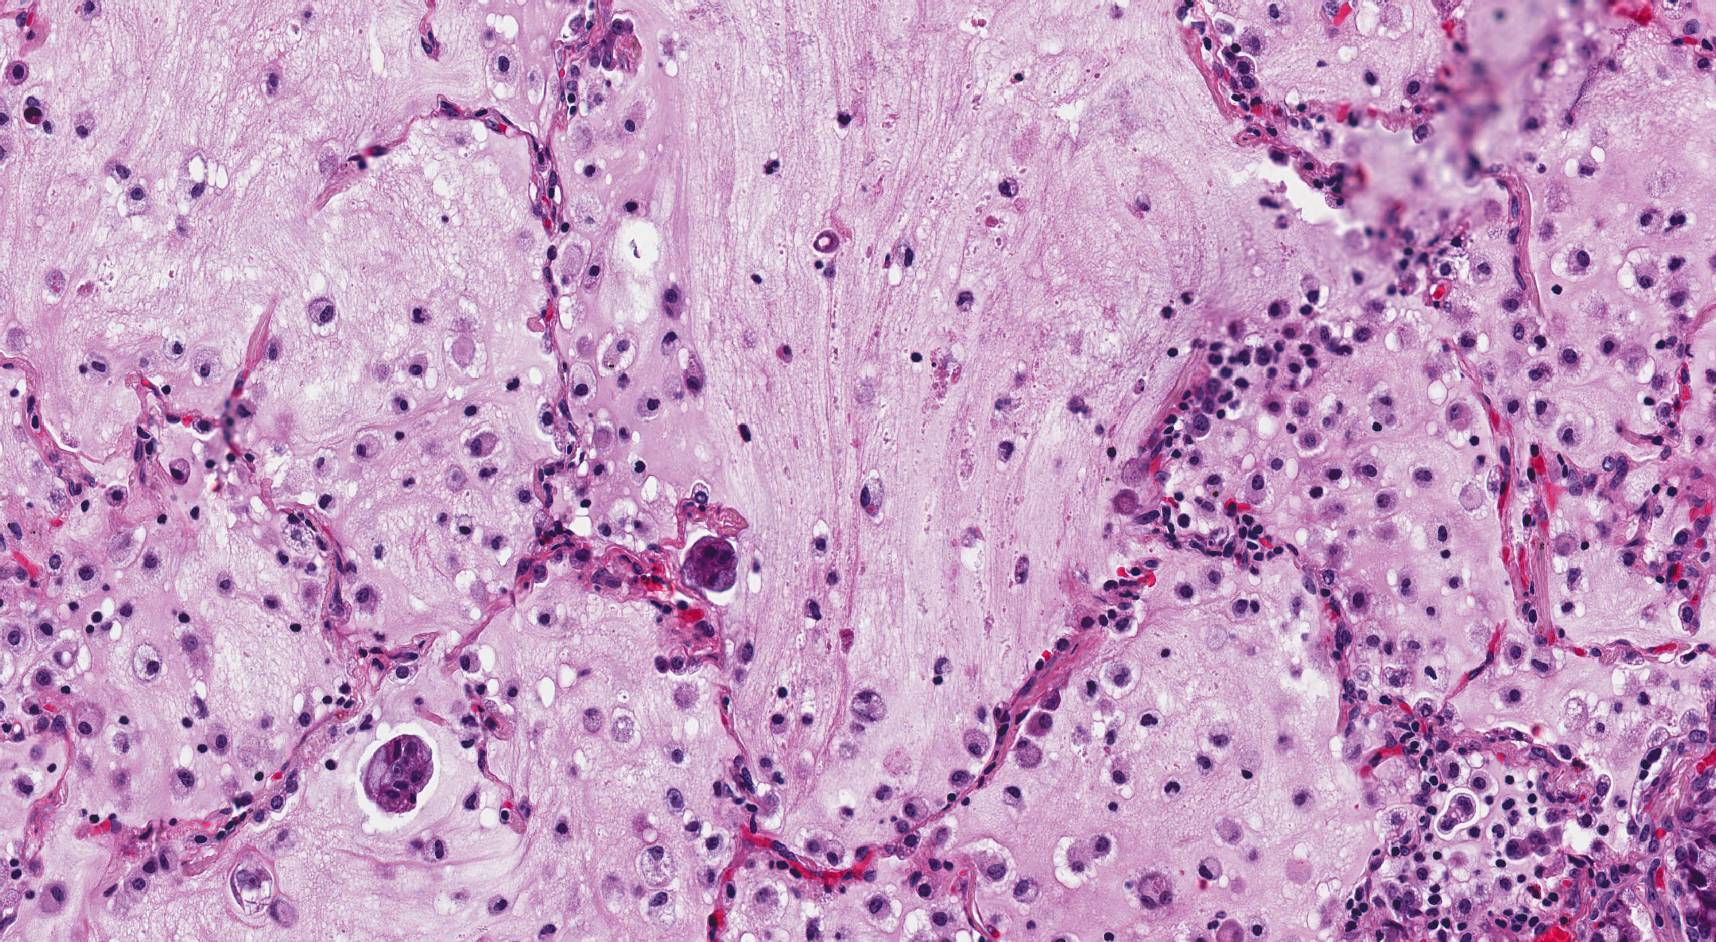stas: (360, 734, 436, 814), (685, 539, 738, 591)
